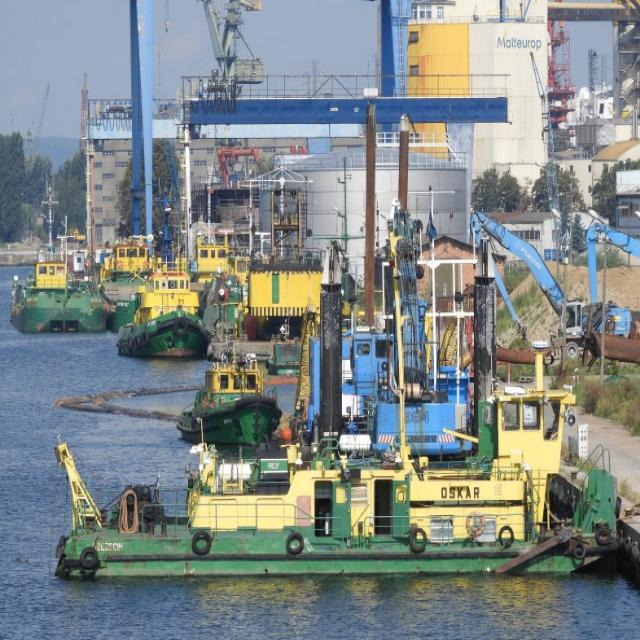tugboat: (45, 382, 629, 586), (9, 192, 109, 340), (176, 351, 284, 454), (116, 268, 215, 366), (104, 234, 180, 322)
